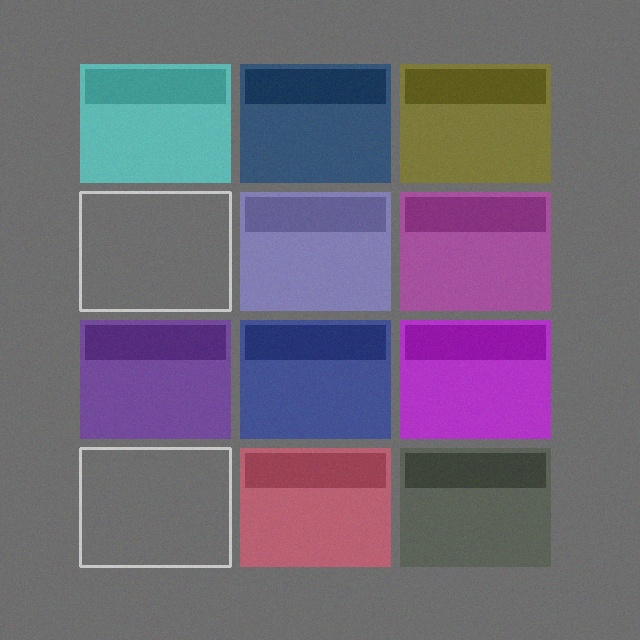space-empty: (80, 192, 230, 310), (80, 448, 230, 566)
space-occupied: (80, 64, 230, 182), (240, 64, 390, 182), (400, 64, 550, 182), (240, 192, 390, 310), (400, 192, 550, 310), (80, 320, 230, 438), (240, 320, 390, 438), (400, 320, 550, 438), (240, 448, 390, 566), (400, 448, 550, 566)
